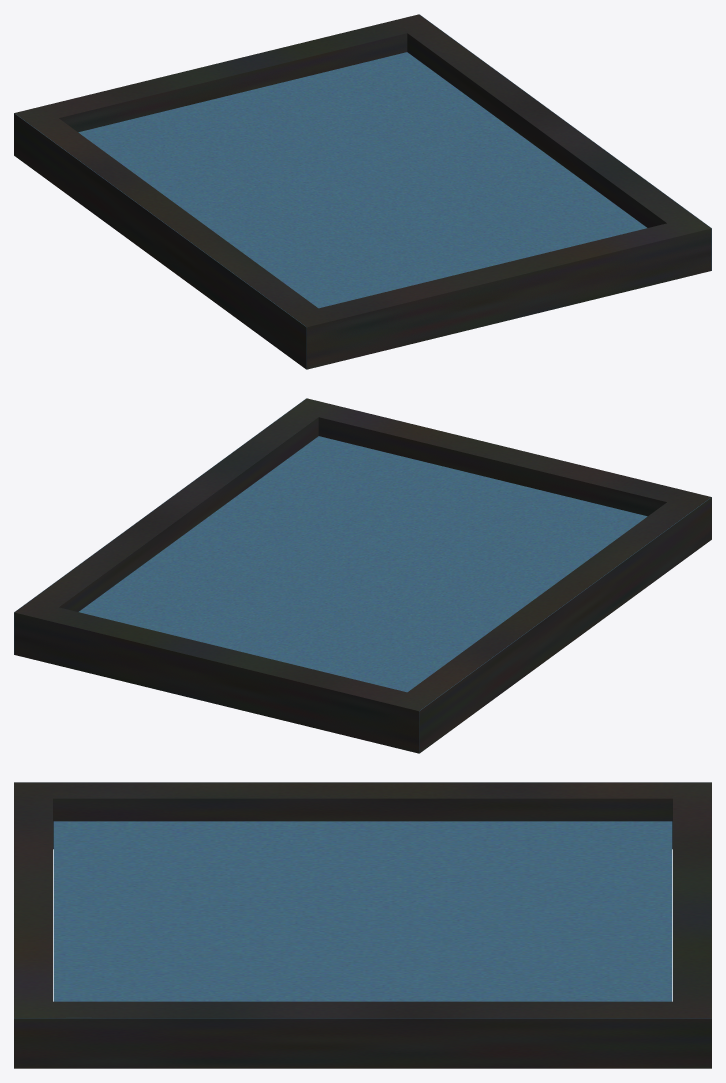
File: window.obj
3 views of the same model, one above another, from view 1: azimuth 30°, elevation 25°; view 2: azimuth 150°, elevation 25°; view 3: azimuth 270°, elevation 25° (orthographic). The views are drawn at different scales.
Bounding box in the file's own units: 1.2 × 0.12 × 1.5.
